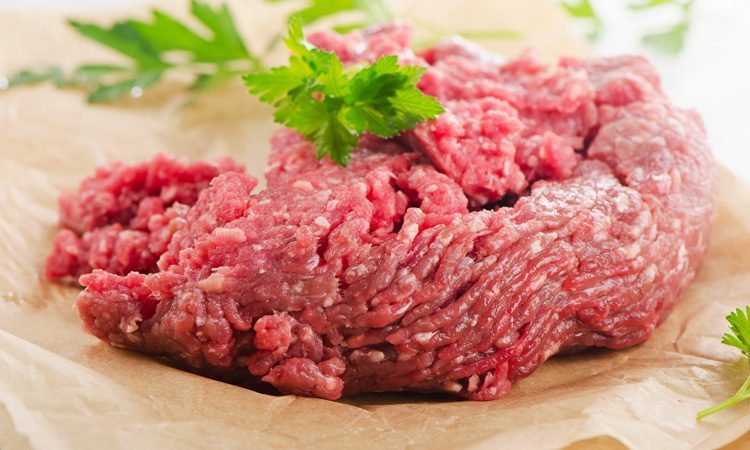ground_beef: (445, 58, 709, 355), (126, 161, 460, 324)
